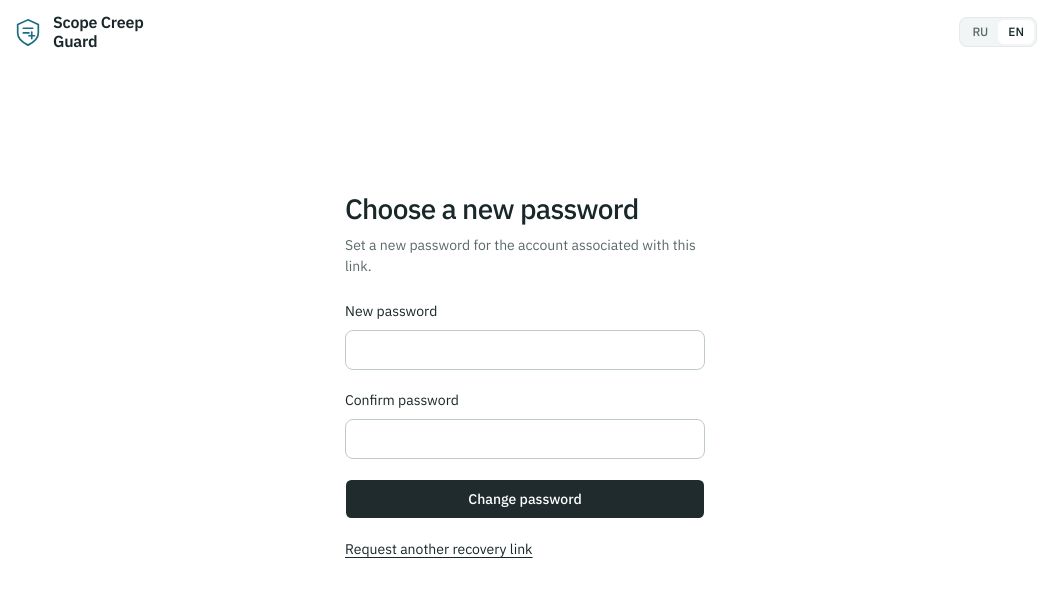
Test case: does not consume a link before explicit matching-password submission
This screenshot has width=1054, height=596.
Type "replacement-password" into the password field labelled "New password". click: (525, 350)
box: [345,330,705,370]
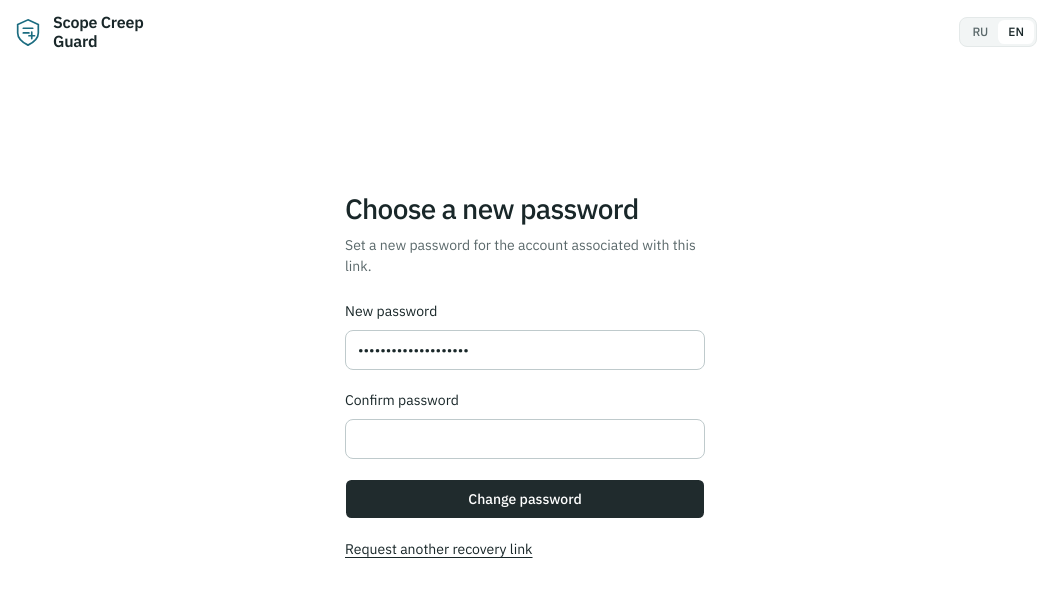
Type "different-password" into the password field labelled "Confirm password". click: (525, 439)
box: [345,419,705,459]
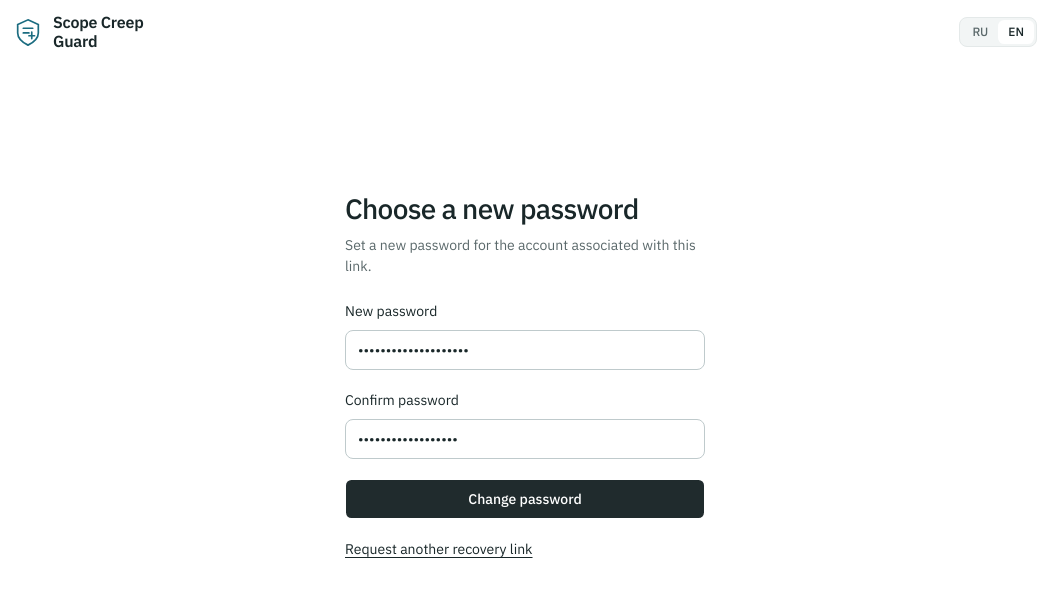
Click the button "Change password". click: (525, 499)
box: [345,479,705,519]
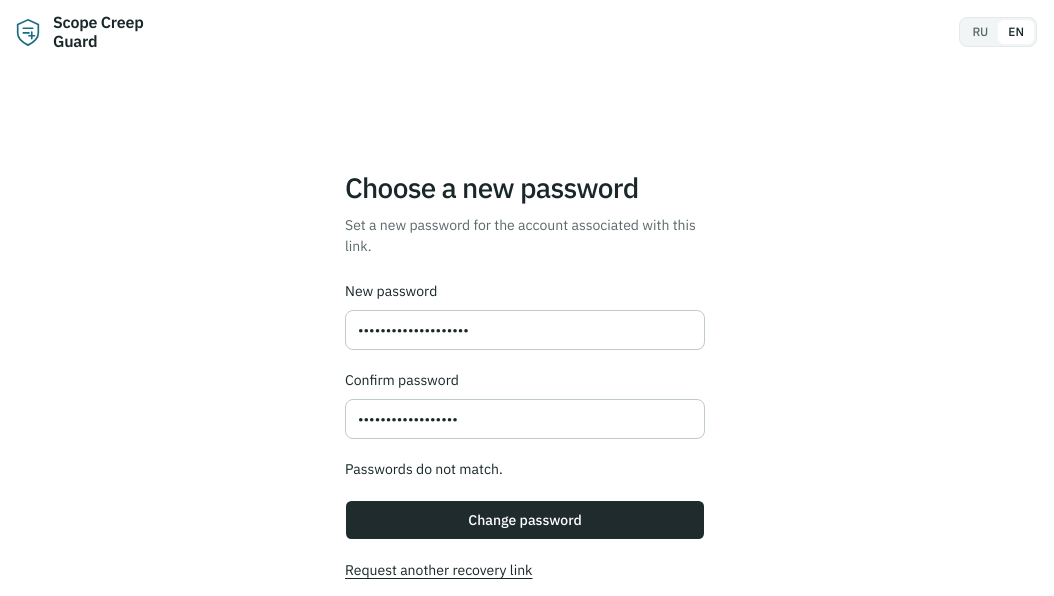
Expected: the message "Passwords do not match." is shown, [345,460,503,478]
Type "replacement-password" into the password field labelled "Confirm password". click: (525, 419)
box: [345,399,705,439]
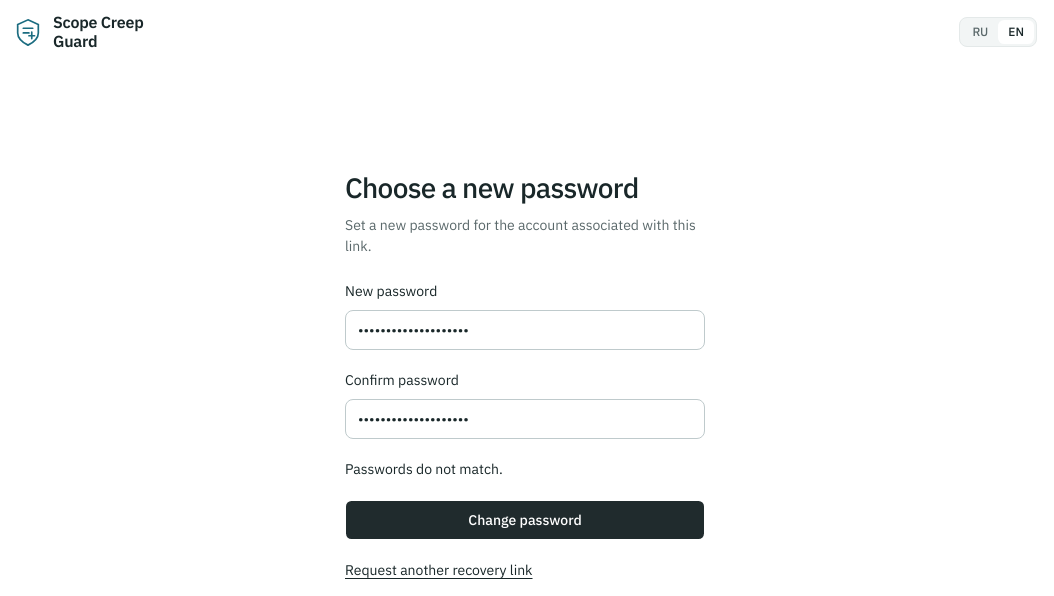
Click the button "Change password". click: (525, 520)
box: [345,500,705,540]
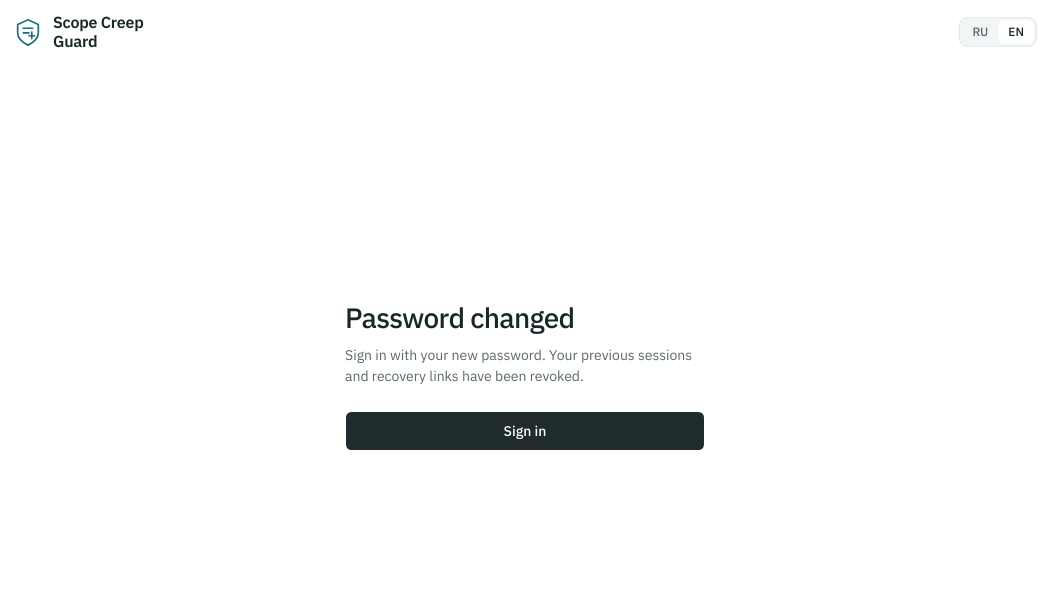
Expected: the heading "Password changed" is shown, [345,299,574,336]
